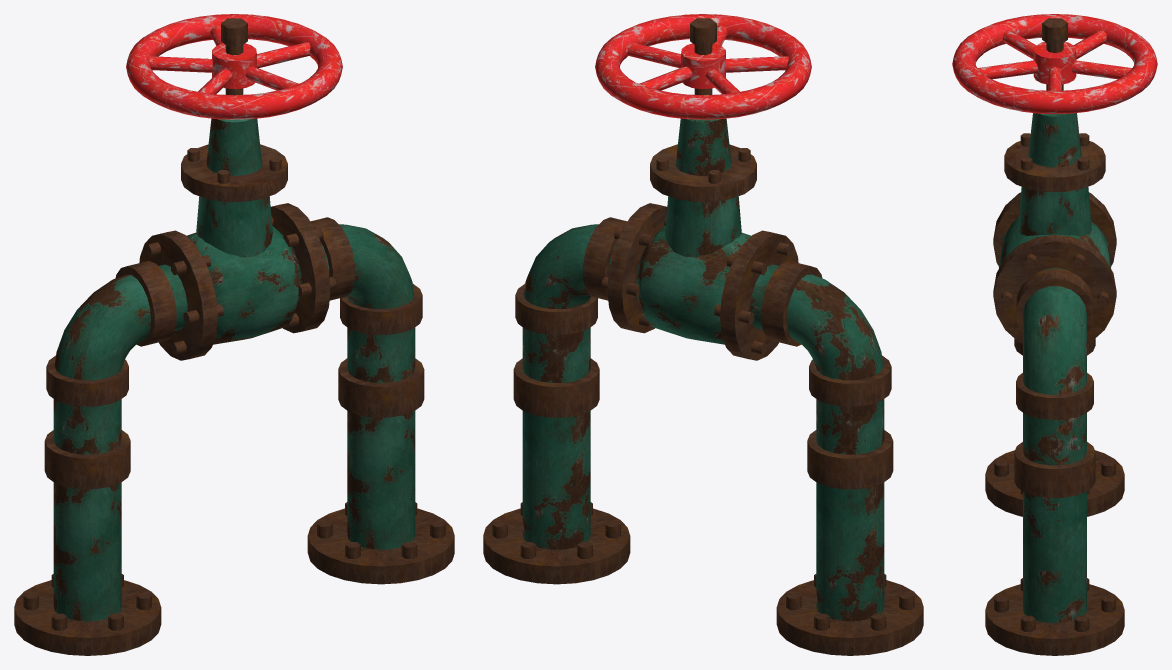
File: prop_valvePipe.glb
3 renders of one model, left to right at view 1: azimuth 30°, elevation 25°; view 2: azimuth 150°, elevation 25°; view 3: azimuth 270°, elevation 25°, orthographic. The views are drawn at different scales.
Visible parts, largest first — view 1: prop; view 2: prop; view 3: prop.
Boxes of the visible parts, x1,y1,x2,y2 form: prop: (14,14,454,655); prop: (483,14,923,655); prop: (952,14,1157,655).
Bounding box in the file's own units: 0.86 × 1.1 × 0.384.
Materials: 3 (3 with a texture image).
